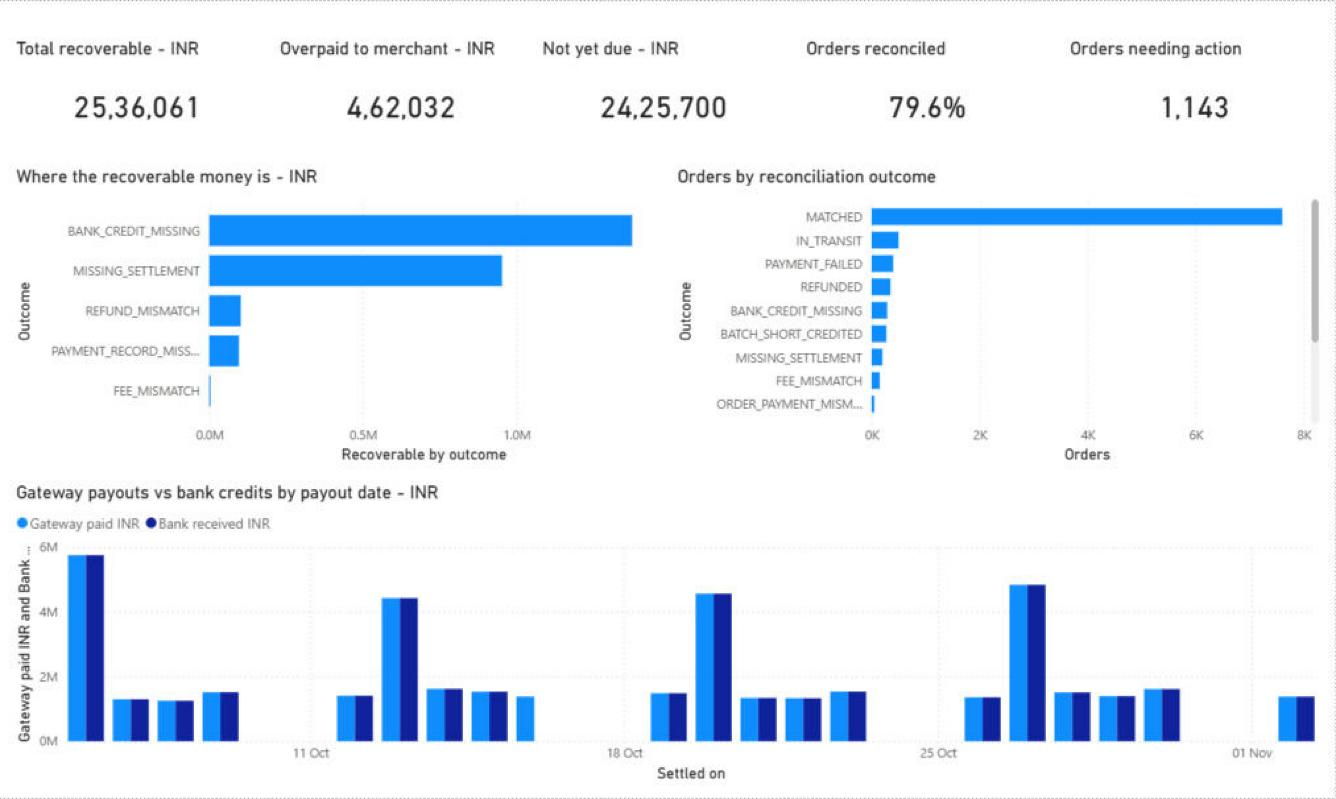

What the dashboard file says about the page in this screenshot:
{"tool":"powerbi","page":{"name":"Overview","canvas":[1280,740],"ordinal":0},"visuals":[{"type":"card","title":"Total recoverable - INR","fields":{"Values":["Ledger.Total recoverable INR"]},"box":[12,12,242,110],"z":0},{"type":"card","title":"Overpaid to merchant - INR","fields":{"Values":["Ledger.Overpaid INR"]},"box":[264,12,242,110],"z":1},{"type":"card","title":"Not yet due - INR","fields":{"Values":["Ledger.In transit INR"]},"box":[516,12,242,110],"z":2},{"type":"card","title":"Orders reconciled","fields":{"Values":["Ledger.Reconciled share"]},"box":[768,12,242,110],"z":3},{"type":"card","title":"Orders needing action","fields":{"Values":["Ledger.Exception orders"]},"box":[1020,12,248,110],"z":4},{"type":"barChart","title":"Where the recoverable money is - INR","fields":{"Category":["Ledger.Outcome"],"Y":["Ledger.Recoverable by outcome"]},"box":[12,134,620,290],"z":5},{"type":"barChart","title":"Orders by reconciliation outcome","fields":{"Category":["Ledger.Outcome"],"Y":["Ledger.Orders"]},"box":[644,134,624,290],"z":6},{"type":"clusteredColumnChart","title":"Gateway payouts vs bank credits by payout date - INR","fields":{"Category":["Payouts.Settled on"],"Y":["Payouts.Gateway paid INR","Payouts.Bank received INR"]},"box":[12,436,1256,292],"z":7}]}

Visuals, with their boxes on the page's 1280x740 design canvas (x1, y1, x2, y2). These are canvas units, not pixel positions in the 1336x799 screenshot, which may show the page scaled, cropped or inside an application window:
"Total recoverable - INR" card: {"x1": 12, "y1": 12, "x2": 254, "y2": 122}
"Overpaid to merchant - INR" card: {"x1": 264, "y1": 12, "x2": 506, "y2": 122}
"Not yet due - INR" card: {"x1": 516, "y1": 12, "x2": 758, "y2": 122}
"Orders reconciled" card: {"x1": 768, "y1": 12, "x2": 1010, "y2": 122}
"Orders needing action" card: {"x1": 1020, "y1": 12, "x2": 1268, "y2": 122}
"Where the recoverable money is - INR" barChart: {"x1": 12, "y1": 134, "x2": 632, "y2": 424}
"Orders by reconciliation outcome" barChart: {"x1": 644, "y1": 134, "x2": 1268, "y2": 424}
"Gateway payouts vs bank credits by payout date - INR" clusteredColumnChart: {"x1": 12, "y1": 436, "x2": 1268, "y2": 728}
